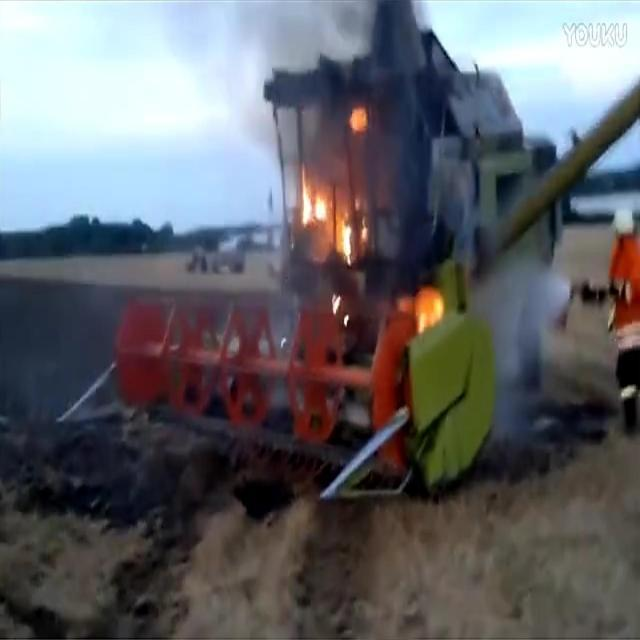Fire: (330, 199, 374, 315), (408, 262, 451, 365), (298, 163, 328, 236)
Smoke: (166, 0, 426, 219)
